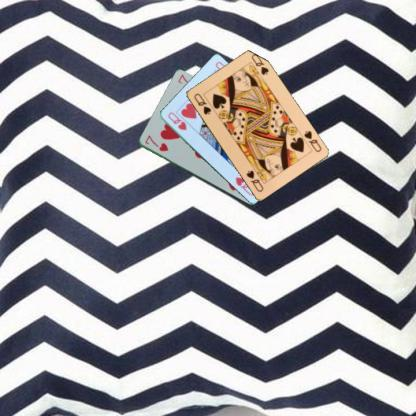7h: (142, 133, 169, 152)
Qh: (165, 110, 188, 132)
Qs: (191, 90, 212, 116), (301, 128, 322, 153)
